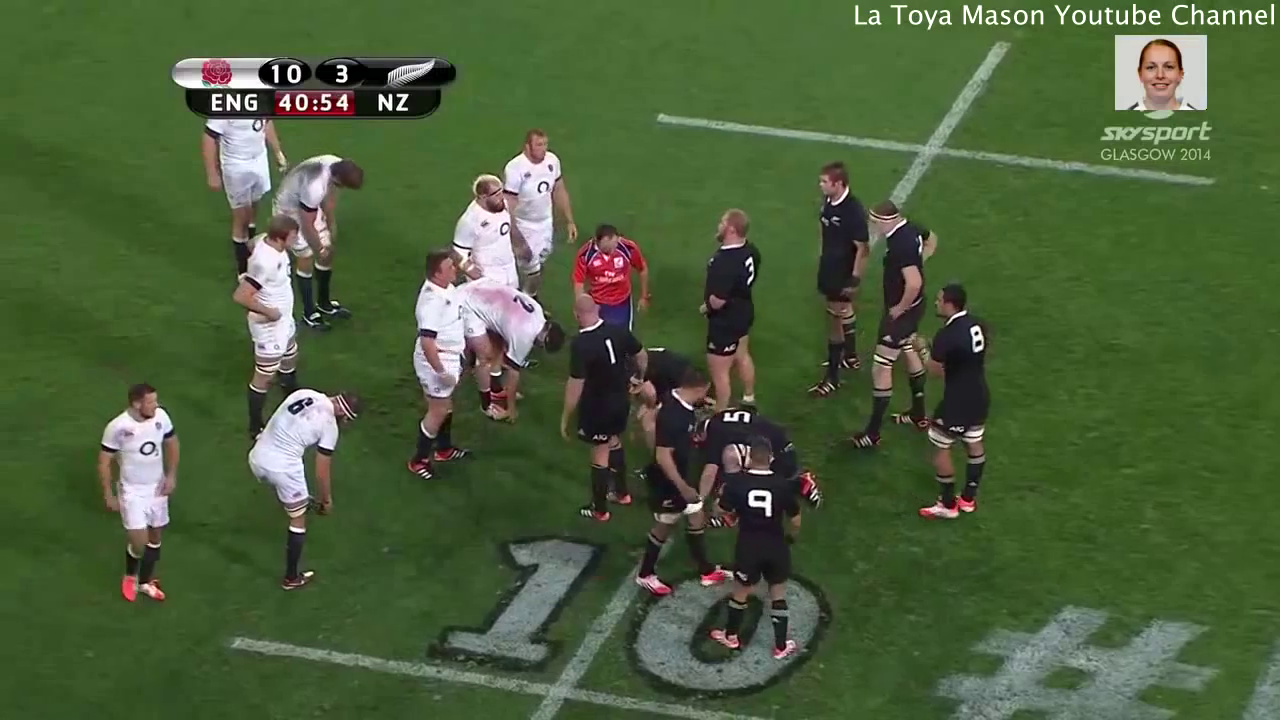10_metre: (650, 39, 1242, 263), (214, 526, 875, 720)
player: (245, 379, 368, 598), (845, 192, 936, 453), (622, 349, 721, 585), (89, 377, 187, 615), (715, 429, 804, 674), (916, 281, 999, 533), (555, 283, 638, 511), (278, 143, 375, 324), (792, 150, 864, 392), (402, 244, 470, 488), (425, 270, 560, 383), (232, 218, 309, 408), (696, 202, 766, 404), (496, 124, 579, 274), (198, 122, 281, 247), (569, 220, 649, 317), (450, 169, 507, 262)
